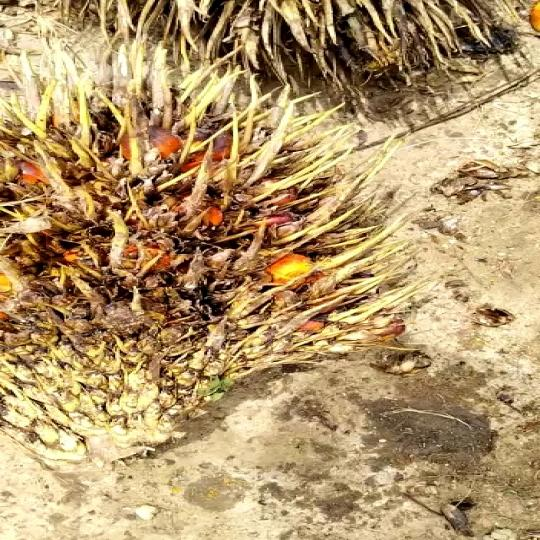terlalu masak: (0, 39, 402, 457)
